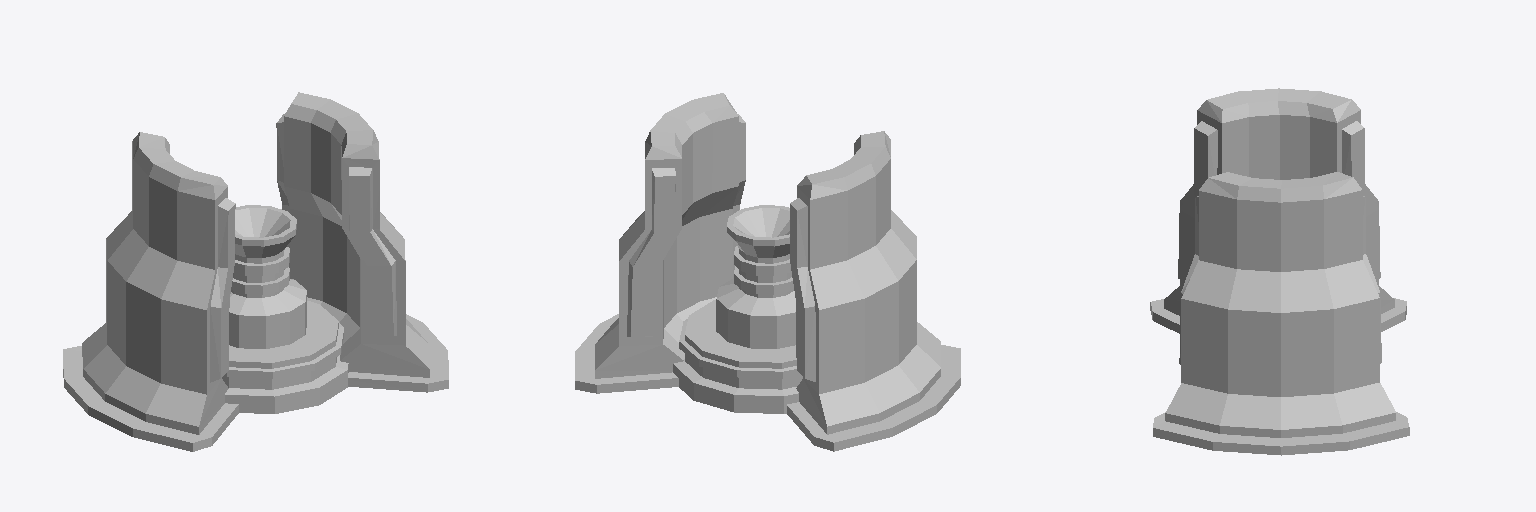
Rendered from SciFi_Building_Large06.obj.
3 views of the same model, side by side, from view 1: azimuth 30°, elevation 25°; view 2: azimuth 150°, elevation 25°; view 3: azimuth 270°, elevation 25° (orthographic).
Parts seen in each view (by area): view 1: SM_Bld_Power_01; view 2: SM_Bld_Power_01; view 3: SM_Bld_Power_01.
Boxes of the visible parts, <box> form: SM_Bld_Power_01: <box>63,92,448,451</box>; SM_Bld_Power_01: <box>575,93,960,451</box>; SM_Bld_Power_01: <box>1150,88,1409,455</box>.
Bounding box in the file's own units: 1.5 × 1 × 1.